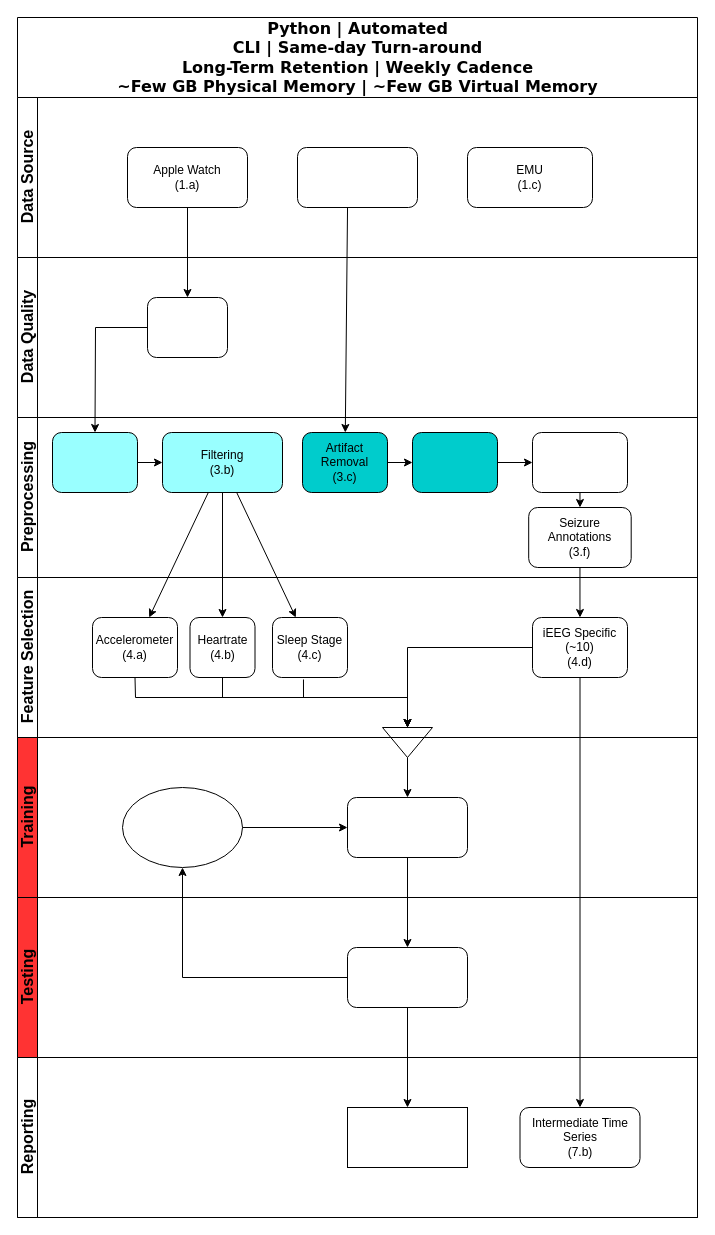
This 715x1235 diagram has some shape labels left out. Here are the shapes that lost their labels. From the top down, the centre of each, then its label:
the point at 357,177: Pre-cleaned IEEG (1.b)
the point at 187,327: Alignment (2.a)
the point at 95,462: Artifact Removal (3.a)
the point at 455,462: Filtering (3.d)
the point at 580,462: Localization (3.e)
the point at 182,827: Hyperparamters (5.a)
the point at 407,827: TBD (5.b)
the point at 407,977: TBD (6.a)
the point at 407,1137: Analysis Statistics (7.a)
